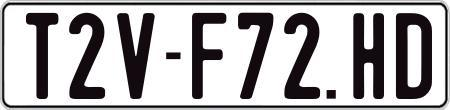2: (281, 11, 321, 103), (67, 13, 104, 105)
7: (236, 11, 277, 97)
D: (396, 13, 436, 99)
F: (191, 11, 228, 103)
H: (351, 12, 386, 102)
T: (26, 13, 58, 100)
V: (116, 10, 154, 100)
